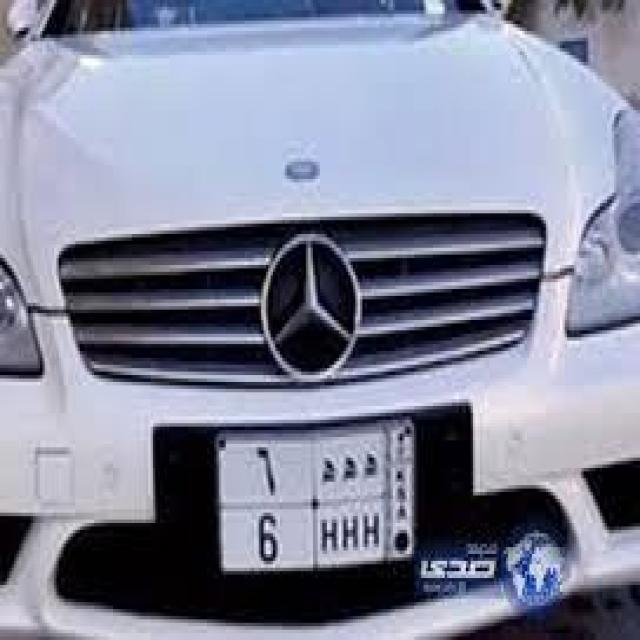license_plate: (193, 406, 423, 592)
